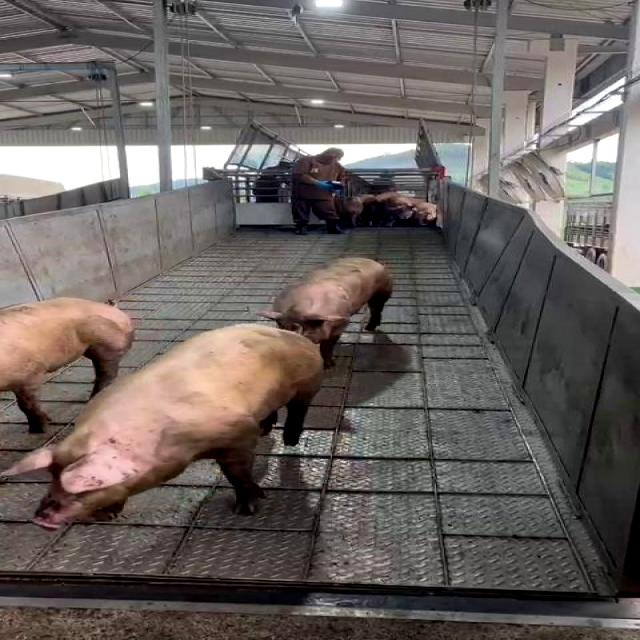pig: (5, 323, 321, 521), (1, 298, 134, 431), (262, 258, 392, 365)
